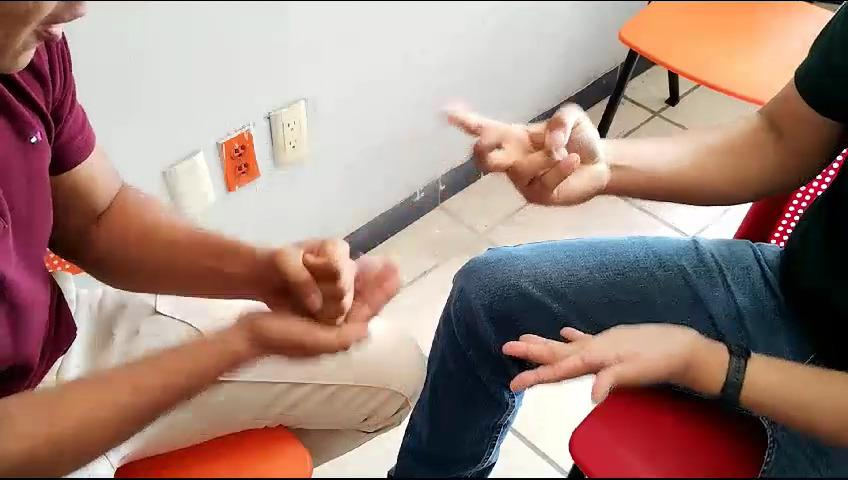Scissor: (428, 83, 628, 216)
Stone: (237, 225, 378, 337)
